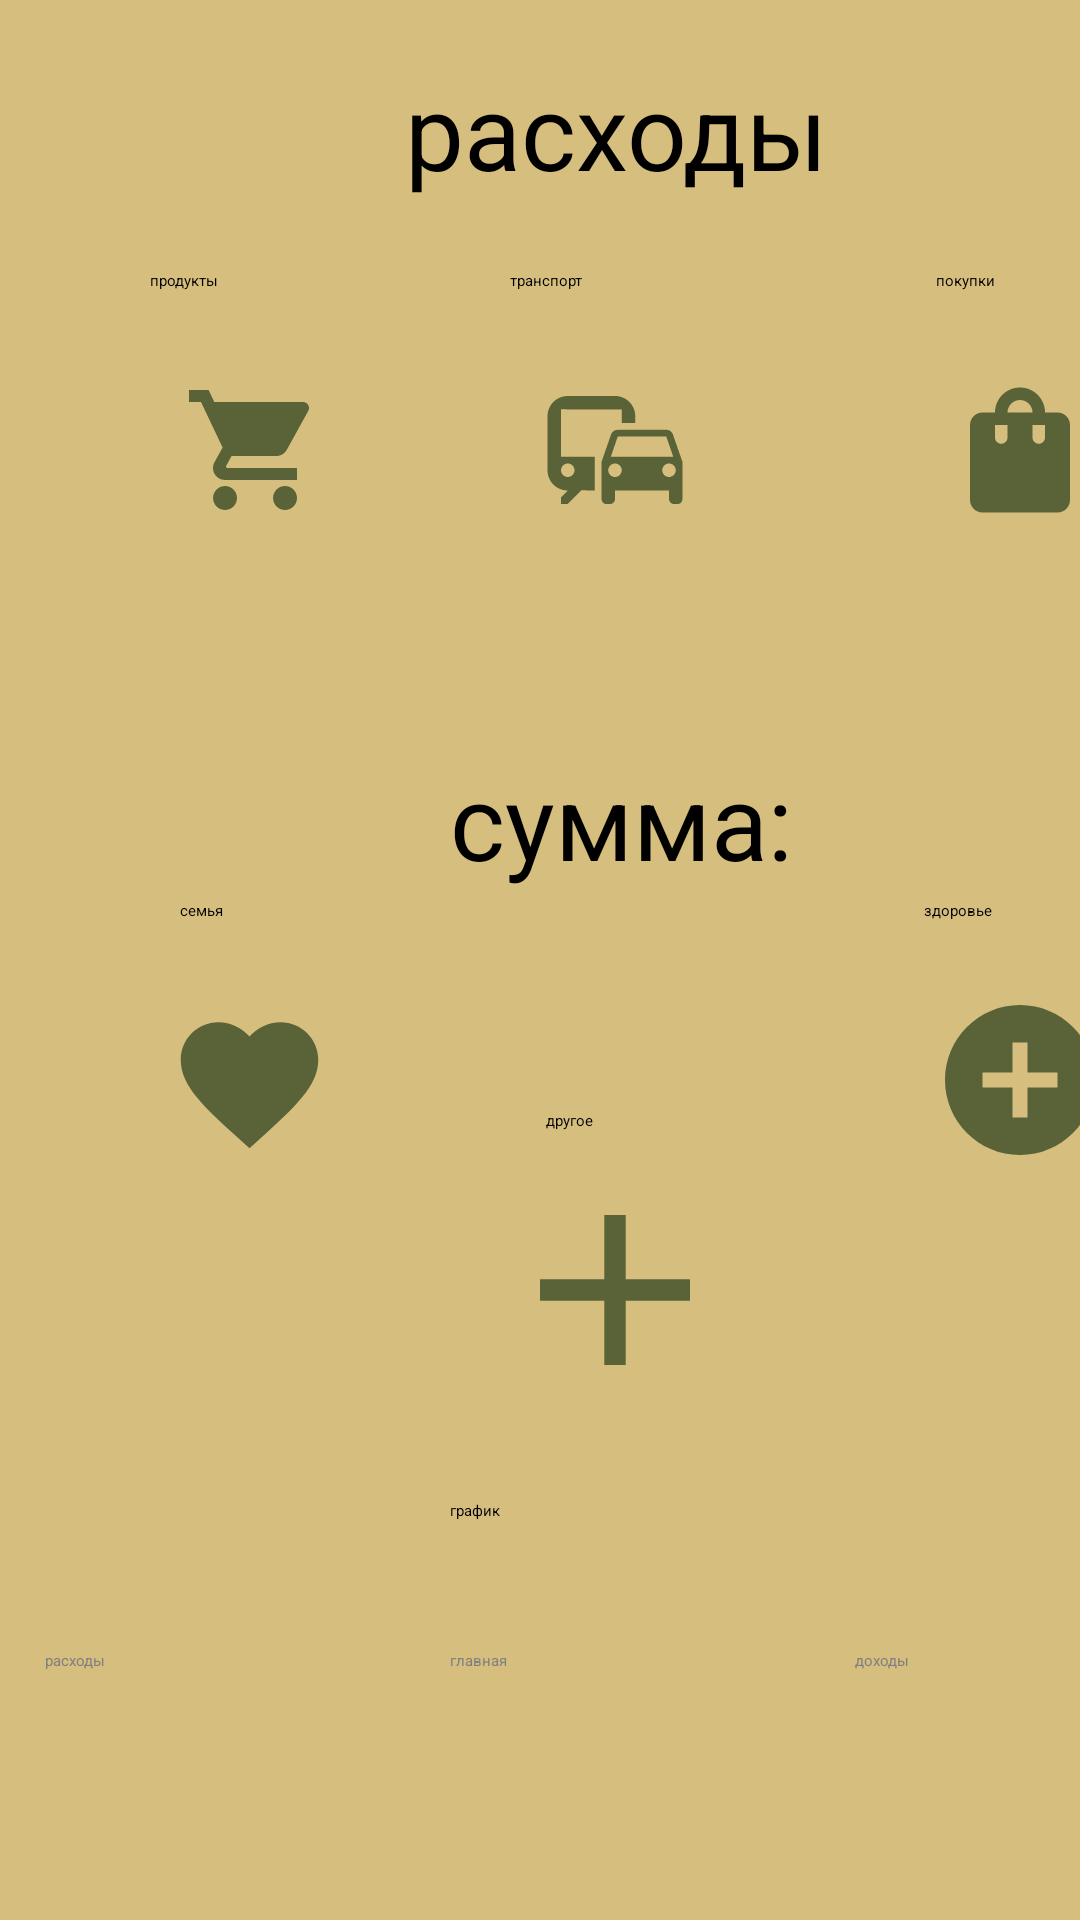

Locate icon controls on the screen. Image size 1080px x 1920px, boxes as (x1, y1, x2, y2).
add: (540, 1215, 690, 1365)
family: (180, 1022, 319, 1148)
goods: (189, 390, 309, 510)
transport: (547, 396, 683, 504)
